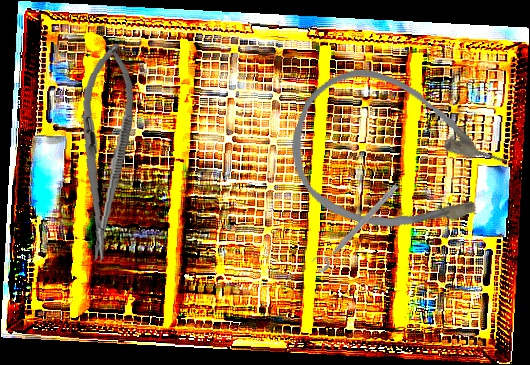Cannula: (273, 52, 520, 263)
Fixation Ring: (308, 177, 402, 275)
Needle Holder: (70, 41, 140, 263)
